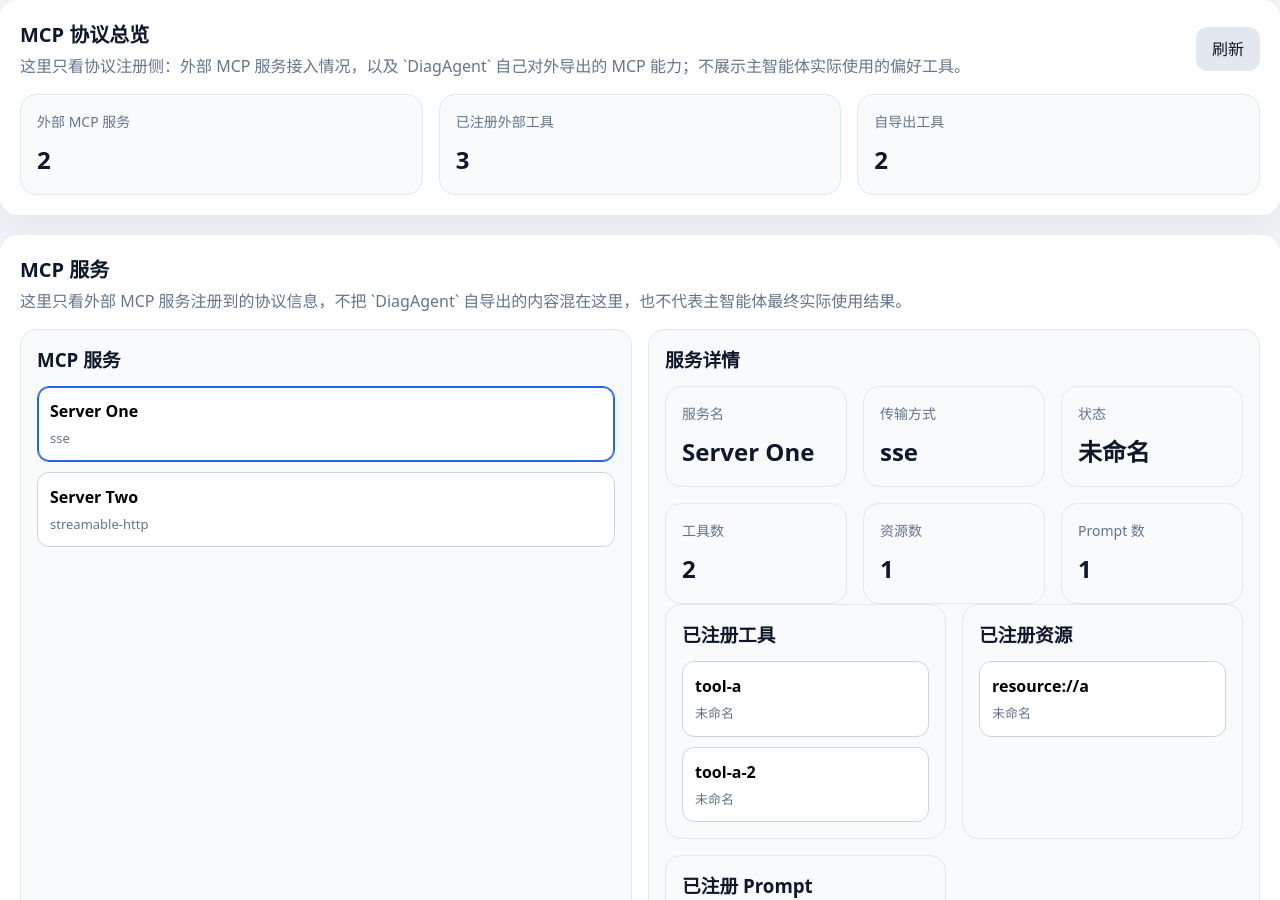
Test: McpPage › 协议页区分外部 MCP 服务和自导出 MCP 内容
Expected: the text "已注册外部工具" is shown, [456,112,554,131]
Expected: the text "3" is shown, [456,143,469,176]
Click the button "Server Two streamable-http": (94, 497) [37,472,615,547]
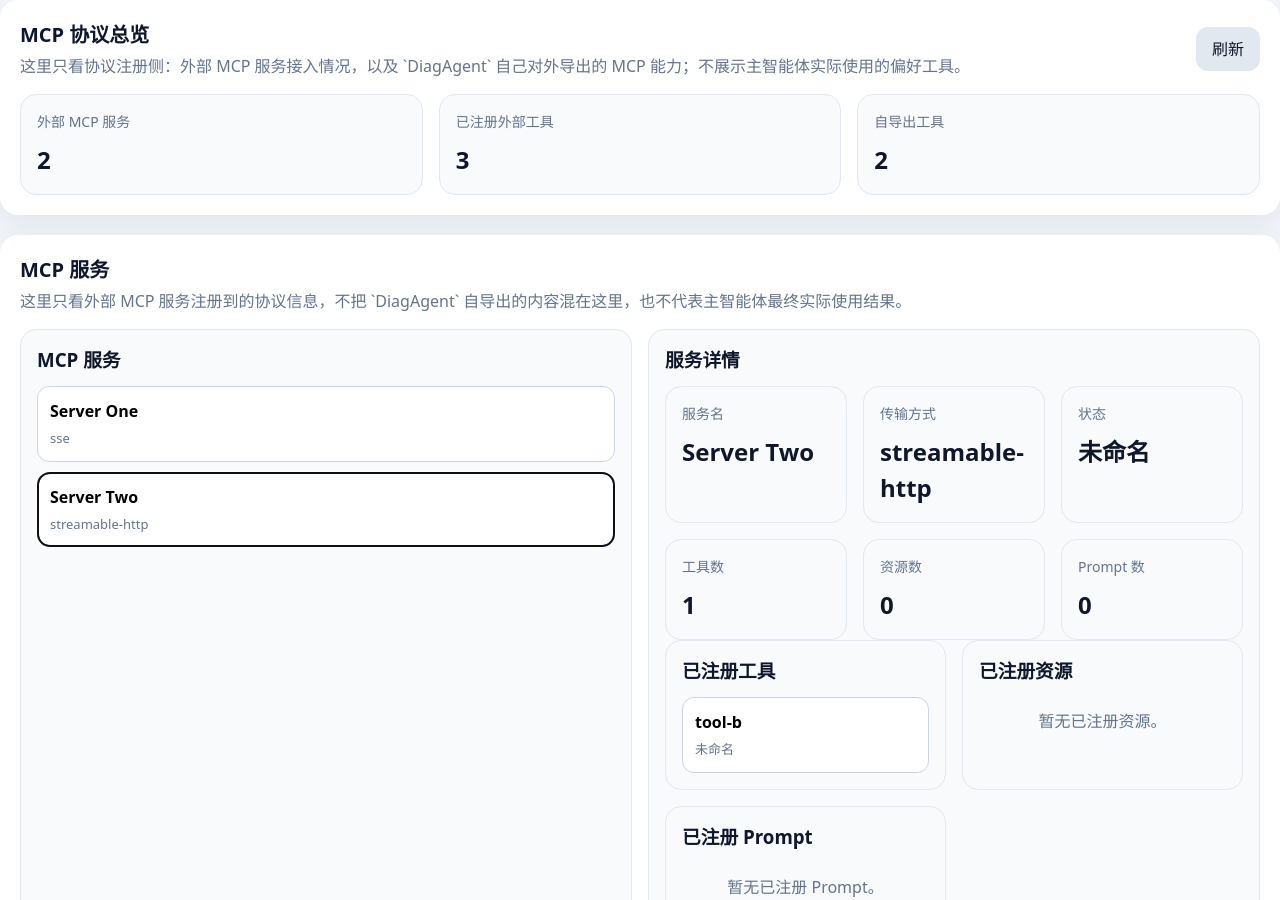
Now the text "tool-b" is shown, box [695,711,742,733]
Now the button "tool-a-2" is gone
